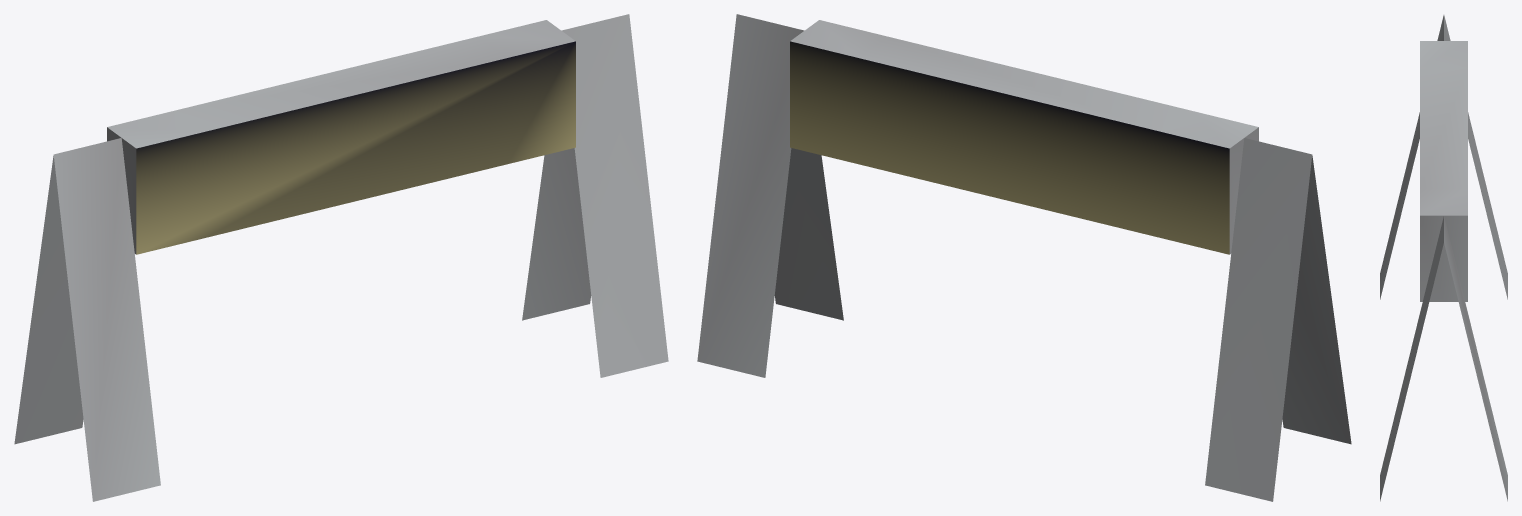
Rendered from detail-barrier-type-b.glb.
3 views of the same model, side by side, from view 1: azimuth 30°, elevation 25°; view 2: azimuth 150°, elevation 25°; view 3: azimuth 270°, elevation 25° (orthographic). The views are drawn at different scales.
Parts seen in each view (by area): view 1: detail-barrier-type-b; view 2: detail-barrier-type-b; view 3: detail-barrier-type-b.
Boxes of the visible parts, box(x1,y1,x2,y2) form: detail-barrier-type-b: box(14, 14, 668, 501); detail-barrier-type-b: box(697, 14, 1351, 501); detail-barrier-type-b: box(1380, 15, 1507, 501).
Bounding box in the file's own units: 0.567 × 0.3 × 0.134.
